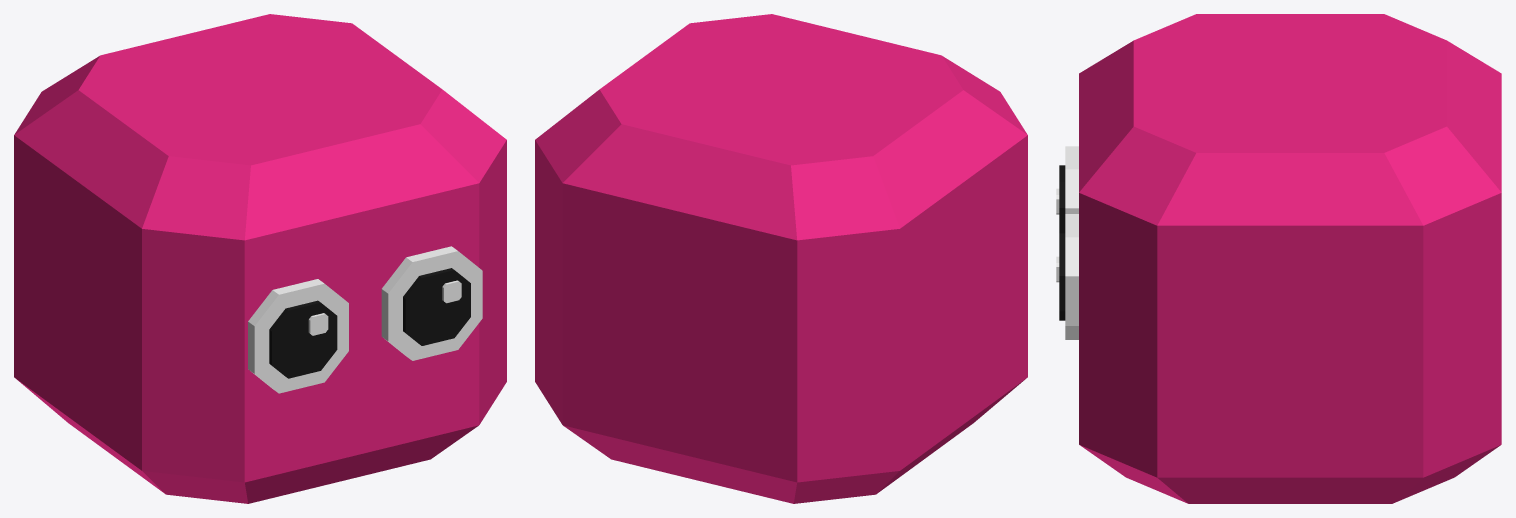
File: Roly.fbx
The picture shows the model from 3 angles, left to right: view 1: azimuth 30°, elevation 25°; view 2: azimuth 150°, elevation 25°; view 3: azimuth 270°, elevation 25°; orthographic projection. The views are drawn at different scales.
Parts seen in each view (by area): view 1: Roly, Roly_Eyes, Roly_Pupils; view 2: Roly; view 3: Roly, Roly_Eyes, Roly_Pupils.
Boxes of the visible parts, box(x1,y1,x2,y2) form: Roly: box(14, 14, 506, 503); Roly_Eyes: box(248, 246, 482, 393); Roly_Pupils: box(269, 268, 470, 378); Roly: box(535, 14, 1027, 503); Roly: box(1079, 14, 1501, 503); Roly_Eyes: box(1056, 146, 1078, 339); Roly_Pupils: box(1059, 165, 1065, 320).
Size of the model in its own units: 2.24 by 1.96 by 2.28.
